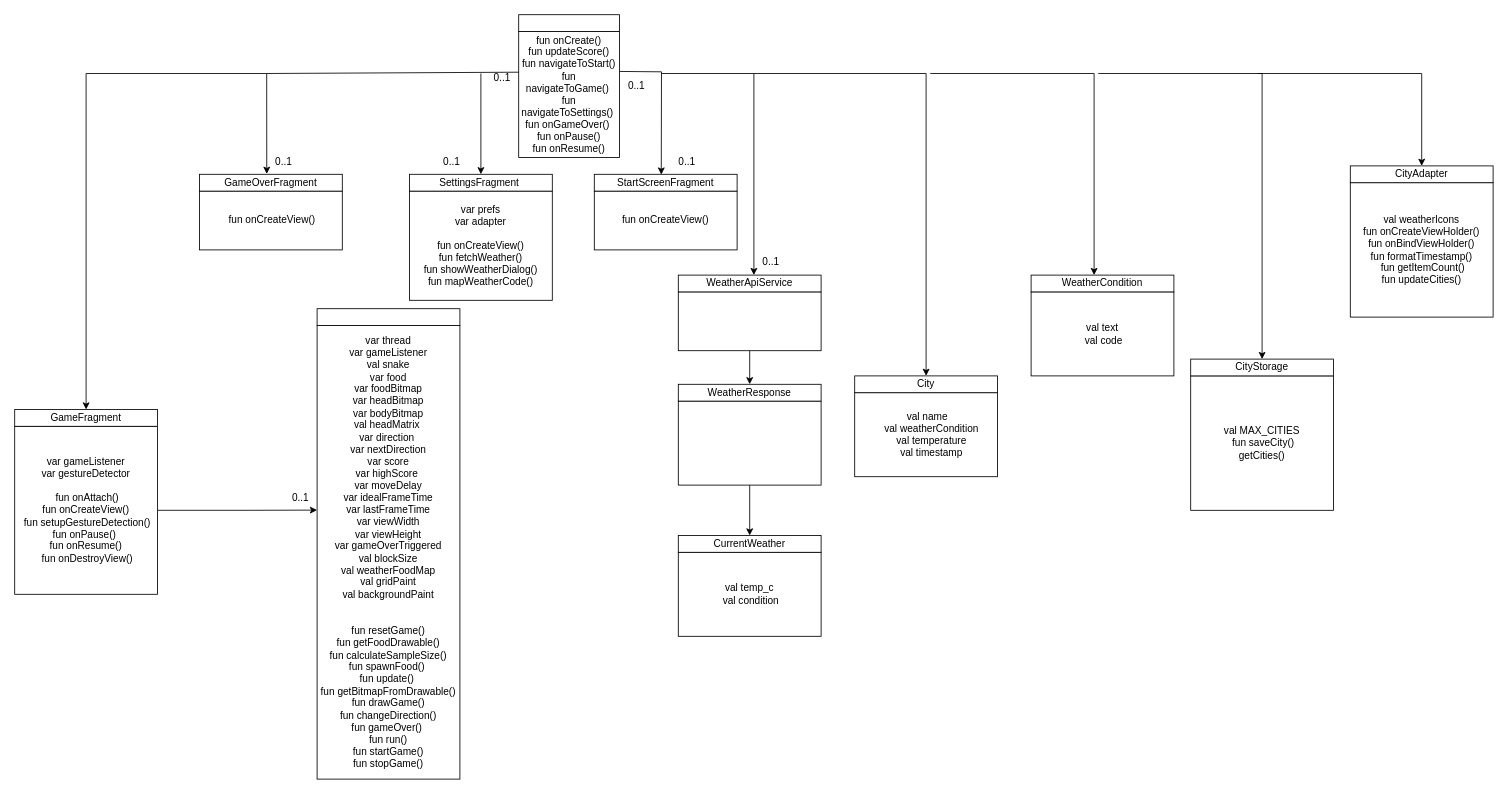
This 1508x801 diagram has some shape labels left out. Each missing label, with the centre of its shape:
"getCurrentWeather()" goes at (749,321).
"MainActivity" goes at (569,23).
"SnakeGame" goes at (388,317).
"val CurrentWeather" goes at (749,442).
